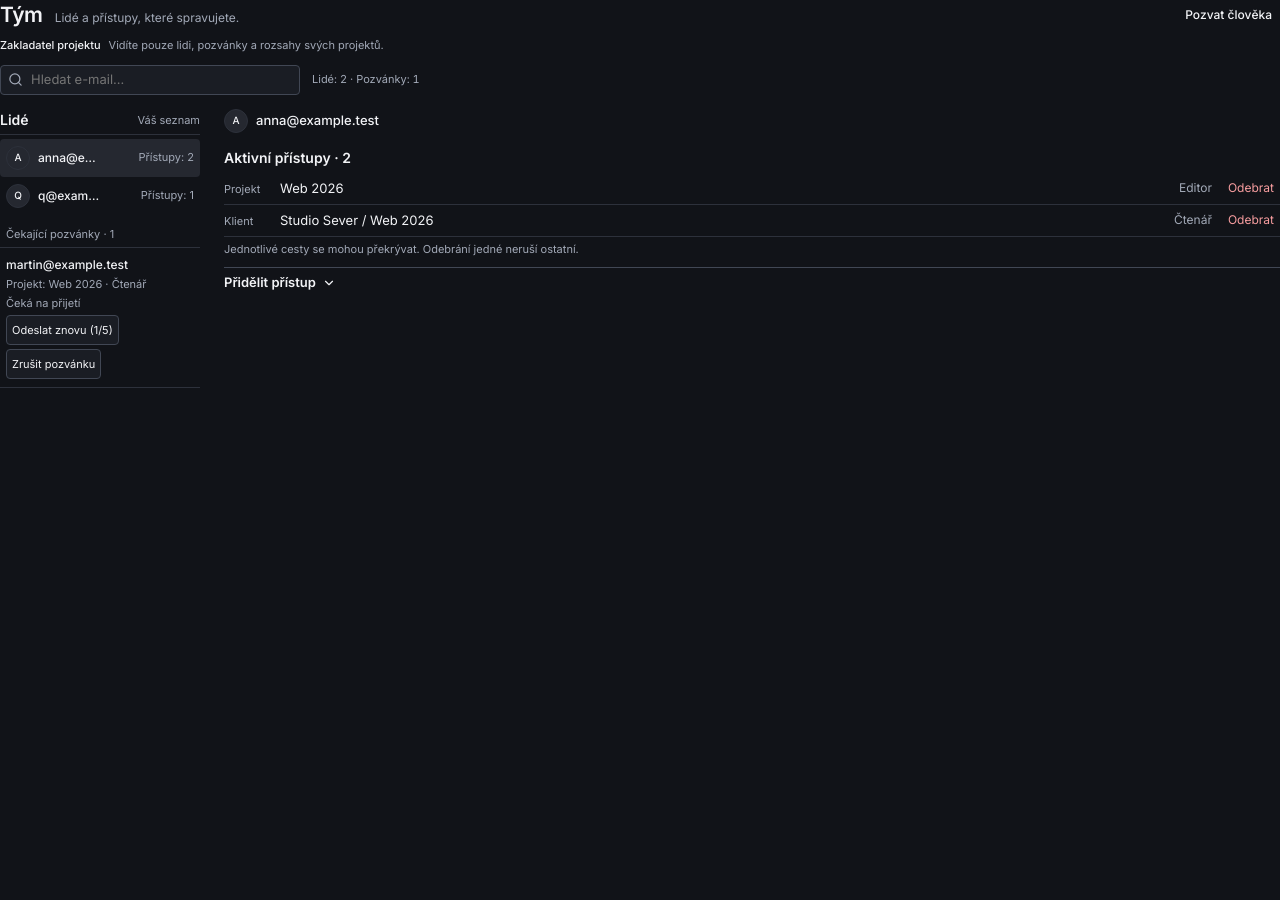
Test: approved compact team workspace › keeps the captured delete identity while a refresh is in flight
The image size is (1280, 900).
Click the button with aria-label "Odebrat přístup: Studio Sever / Web 2026" at [1251, 220], box [1222,205,1279,235]
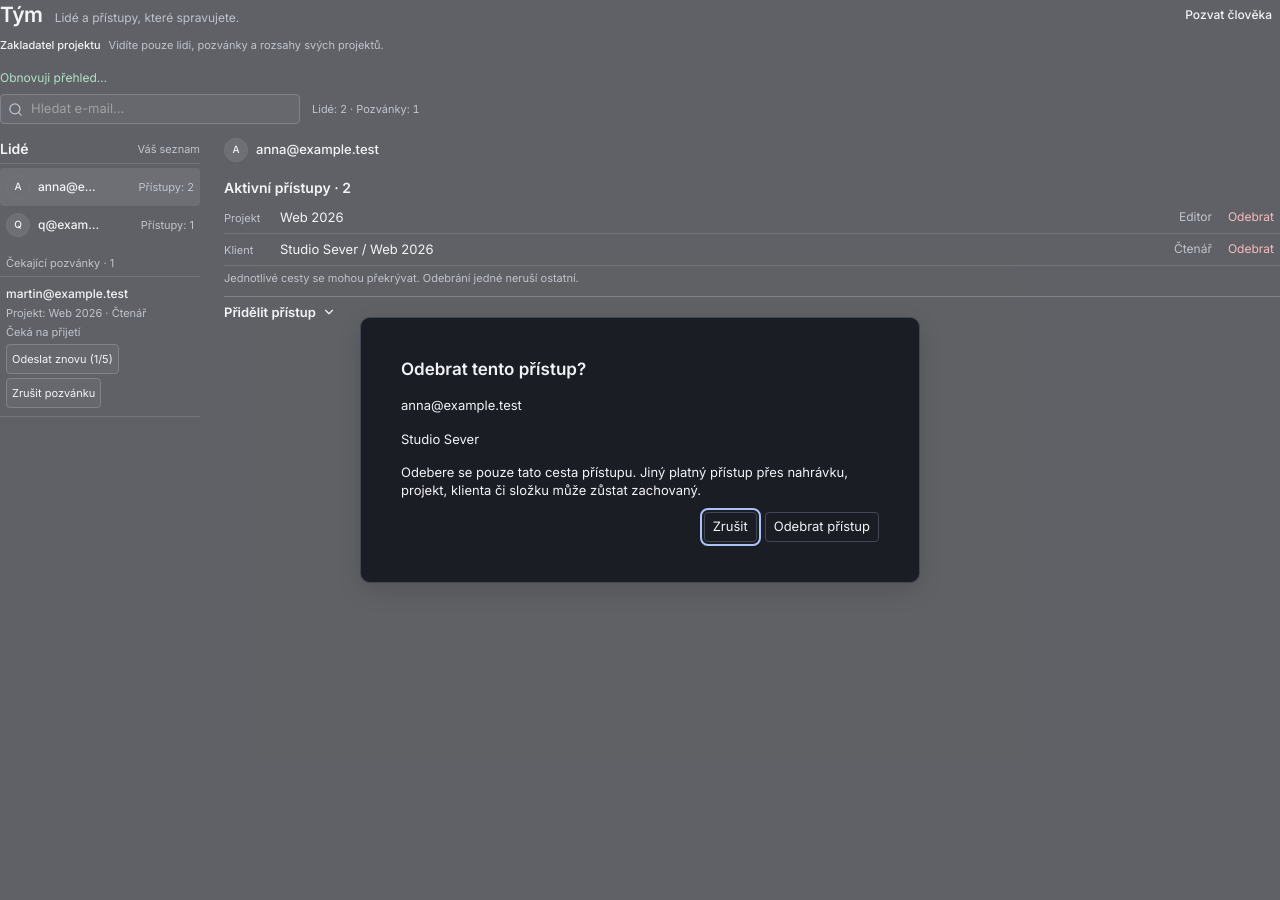
expect the text "q@example.test" is not shown: met
expect the dialog shows "anna@example.test": met, box [401,397,522,413]
Click the button "Odebrat přístup" at [822, 527], box [765,512,879,542]
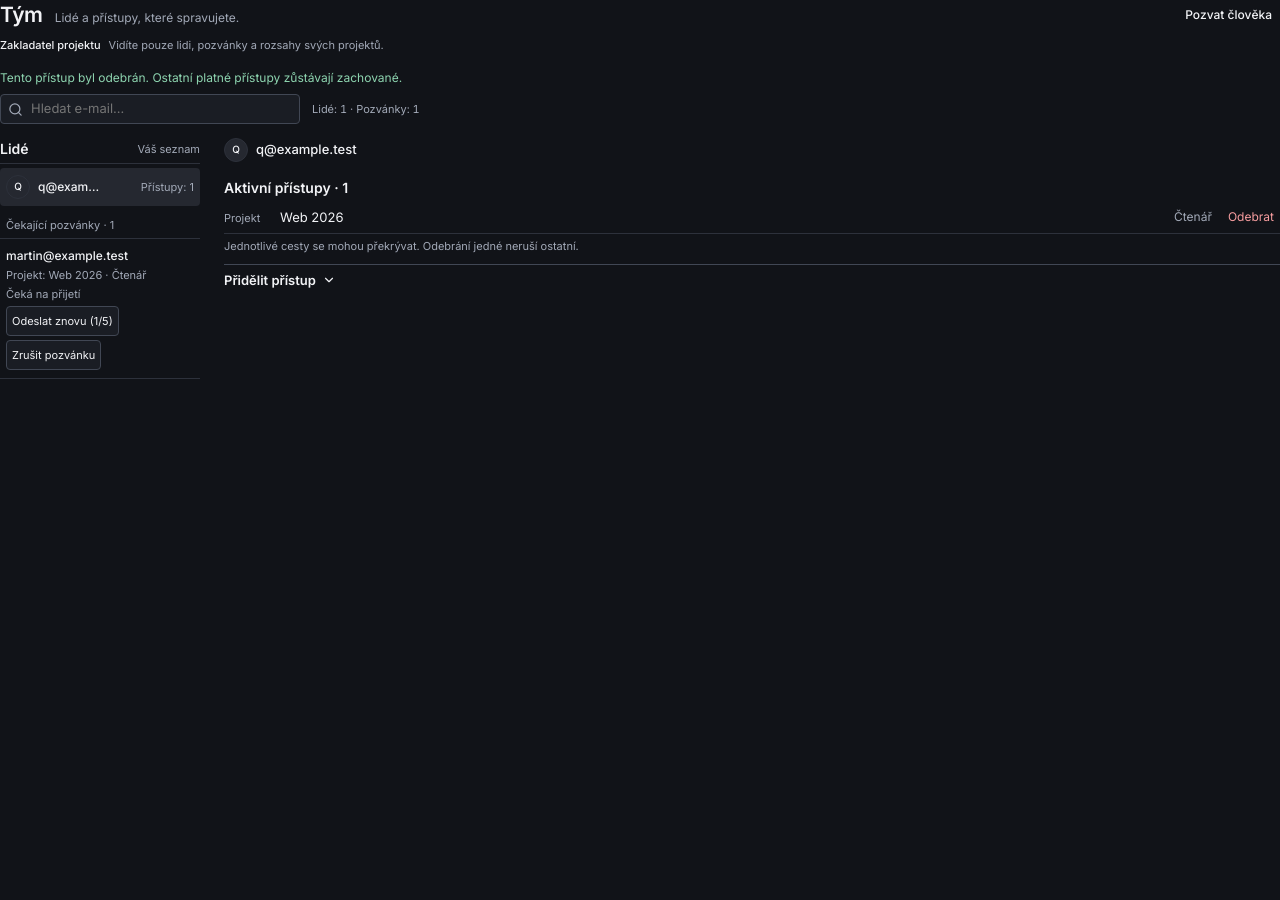
expect the element named "Detail osoby" shows "q@example.test": met, box [256,141,357,157]
expect the dialog is gone: met
